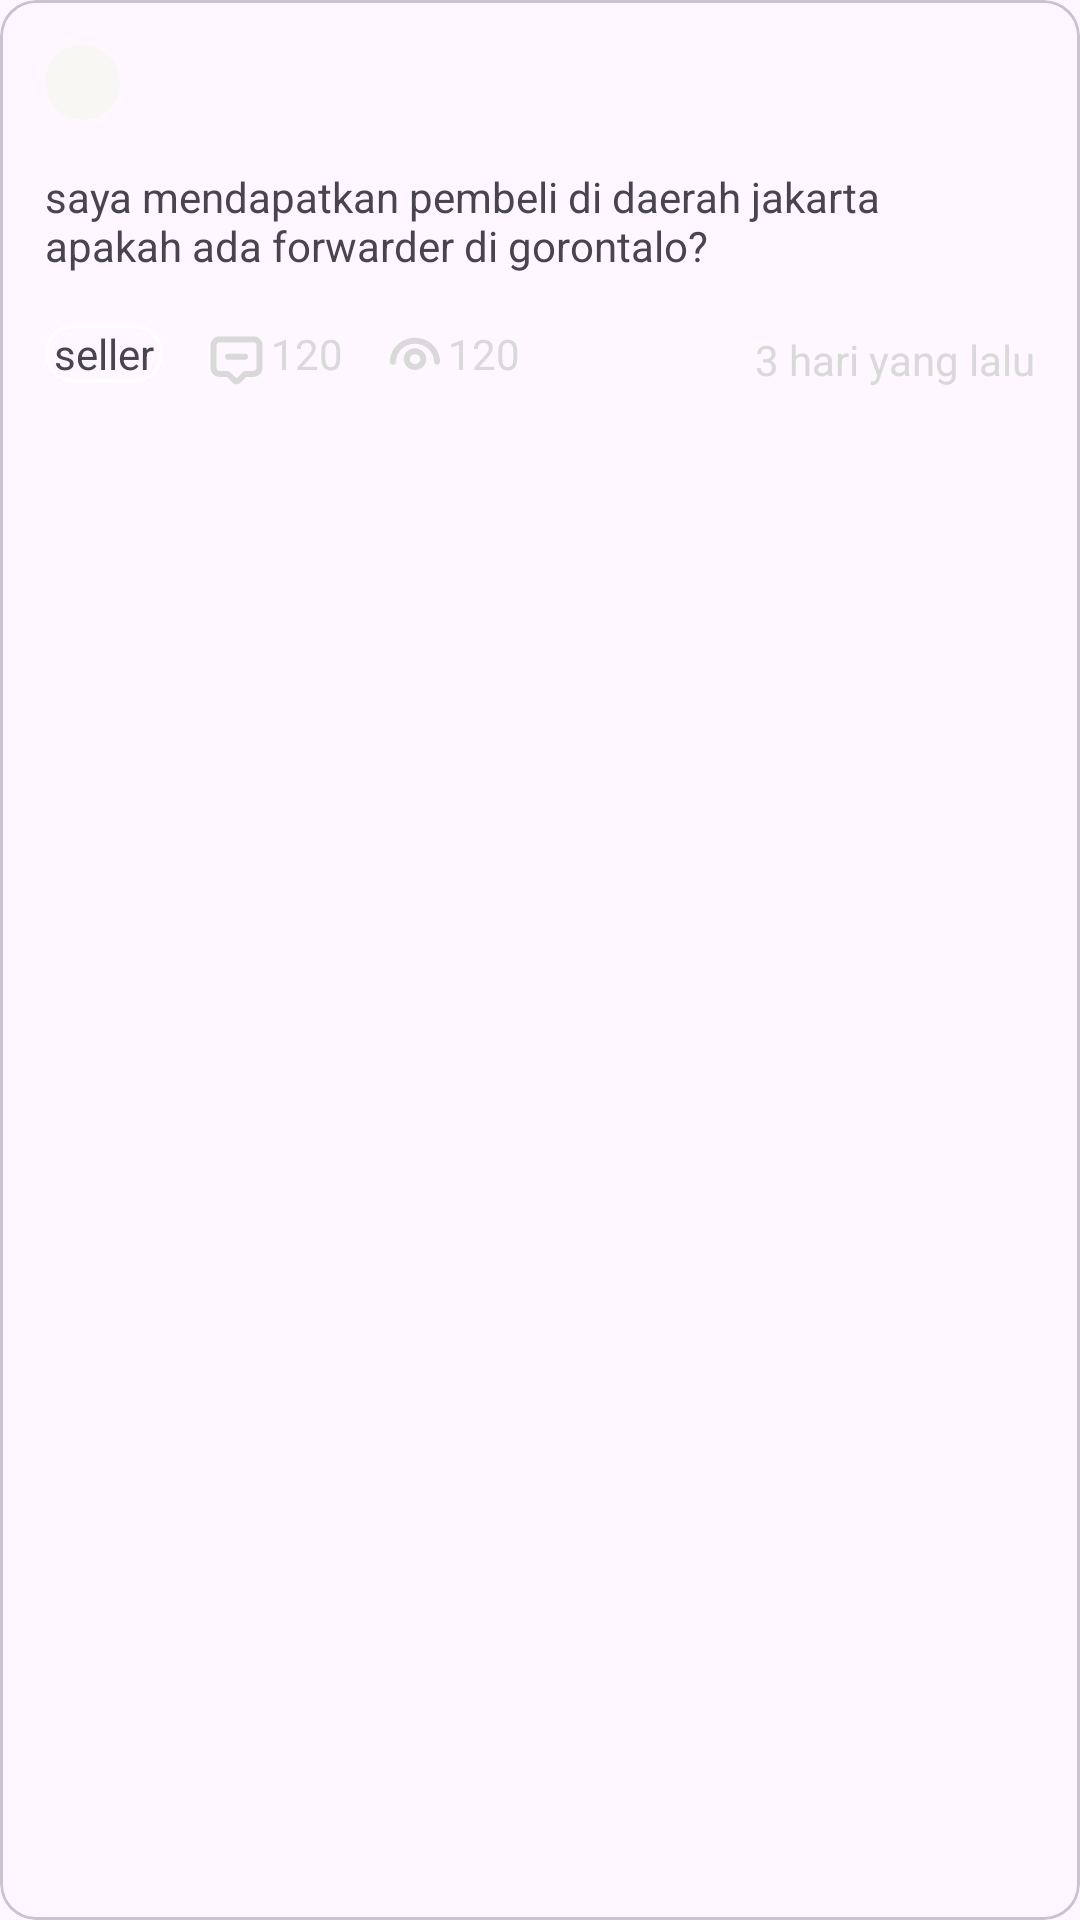

Point at icon controls on the screen. Image size 1080px x 1920px, points as (x=x, y=y).
comment: (x=236, y=360)
view: (x=415, y=354)
